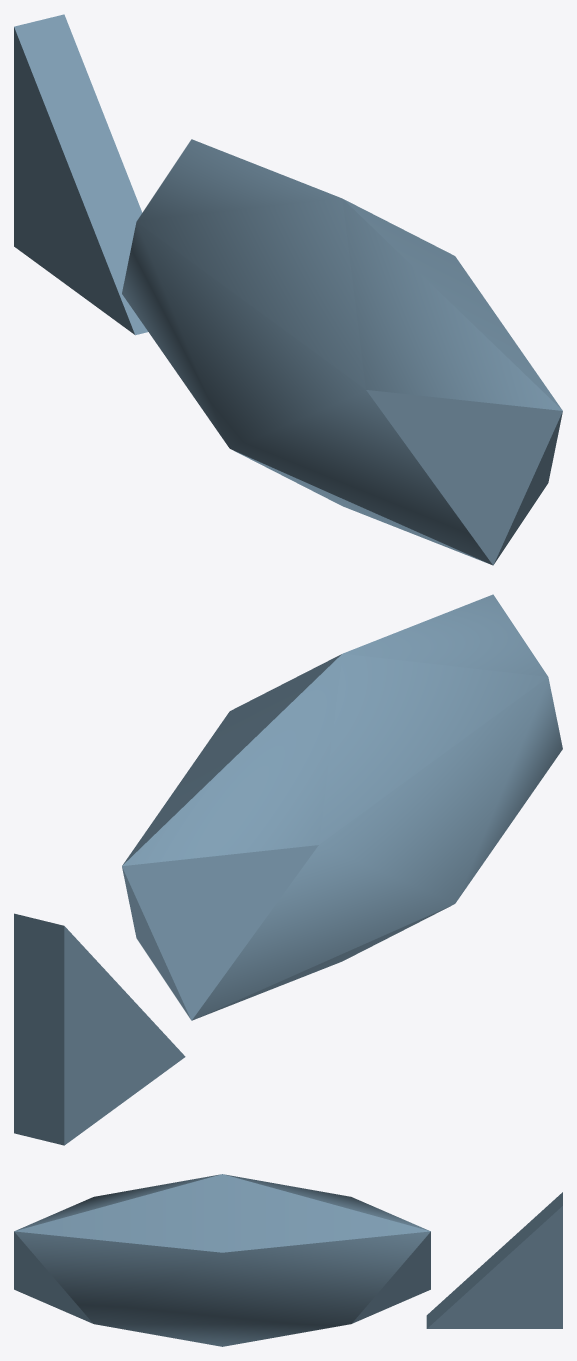
The model's file is good_0.glb.
3 views of the same model, one above another, from view 1: azimuth 30°, elevation 25°; view 2: azimuth 150°, elevation 25°; view 3: azimuth 270°, elevation 25° (orthographic). The views are drawn at different scales.
Parts seen in each view (by area): view 1: good_0; view 2: good_0; view 3: good_0.
Part boxes in pixels (x1,y1,x2,y2): good_0: [14, 14, 562, 565]; good_0: [14, 594, 562, 1145]; good_0: [14, 1174, 562, 1346].
Bounding box in the file's own units: 0.0537 × 0.07 × 0.2016.
